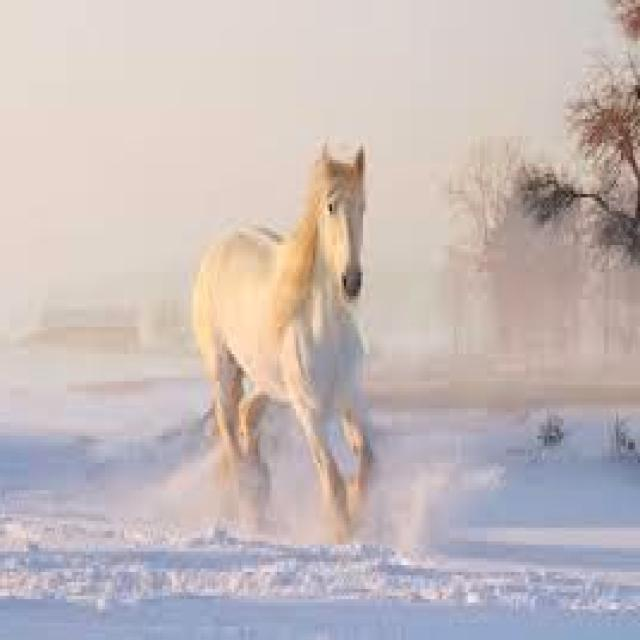horse: (193, 146, 373, 538)
